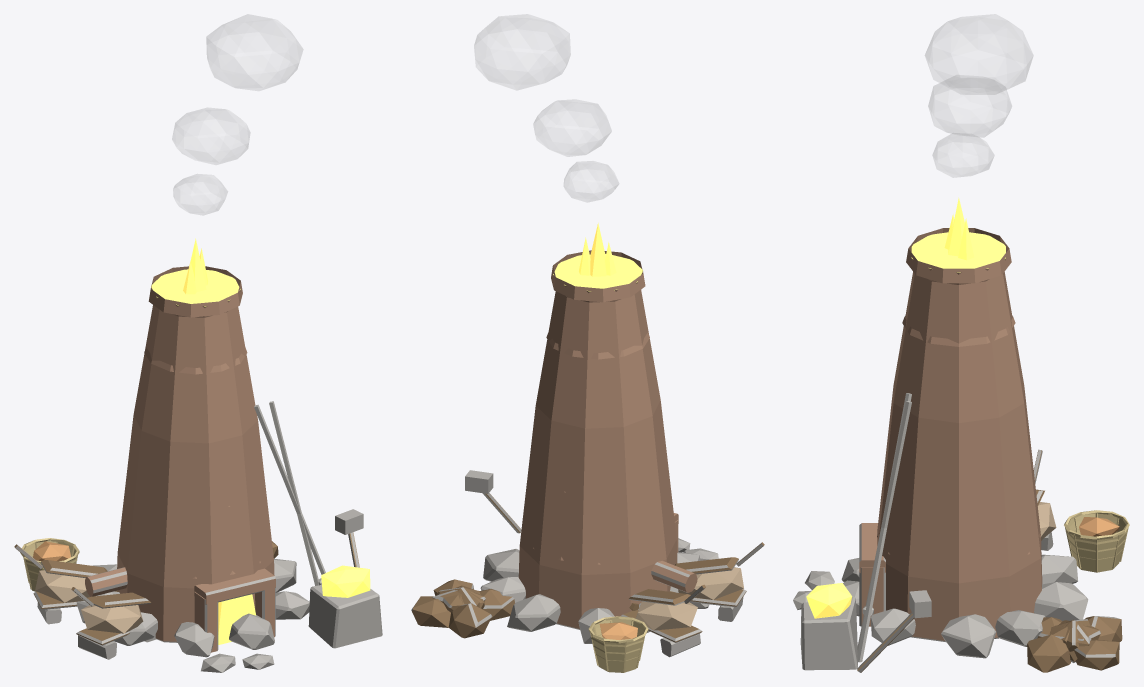
Rendered from asset_bloomery_lit.glb.
The picture shows the model from 3 angles, left to right: view 1: azimuth 30°, elevation 25°; view 2: azimuth 150°, elevation 25°; view 3: azimuth 270°, elevation 25°; orthographic projection. The views are drawn at different scales.
Visible parts, largest first — view 1: asset_bloomery_lit; view 2: asset_bloomery_lit; view 3: asset_bloomery_lit.
Part boxes in pixels (x1=…): asset_bloomery_lit: x1=14, y1=14, x2=382, y2=672; asset_bloomery_lit: x1=411, y1=14, x2=764, y2=672; asset_bloomery_lit: x1=793, y1=14, x2=1129, y2=672.
Bounding box in the file's own units: 1.94 × 3.59 × 1.76.
